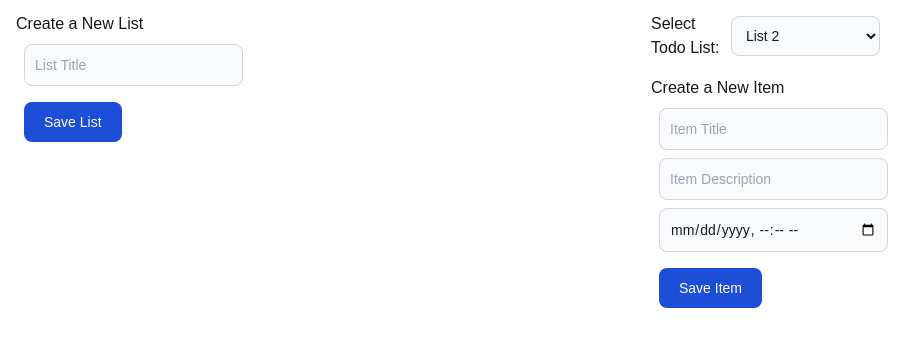
Test: CreateTodoForm › displays validation errors when submitting an empty item form
Click the button "Save Item": (710, 288) [659,268,762,308]
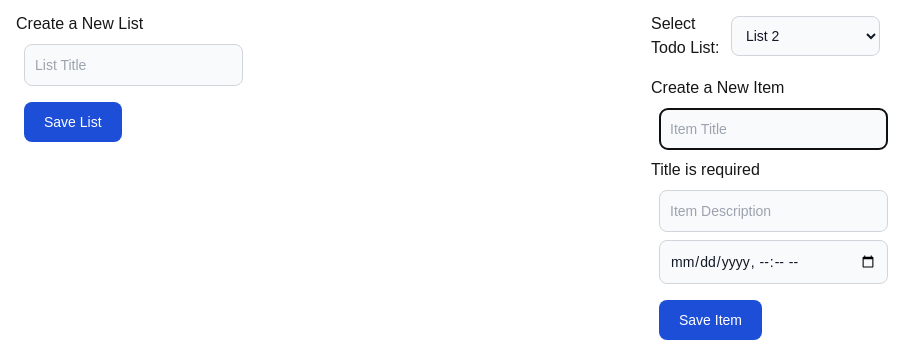
Expected: the text "Title is required" is shown, [651,161,760,178]
